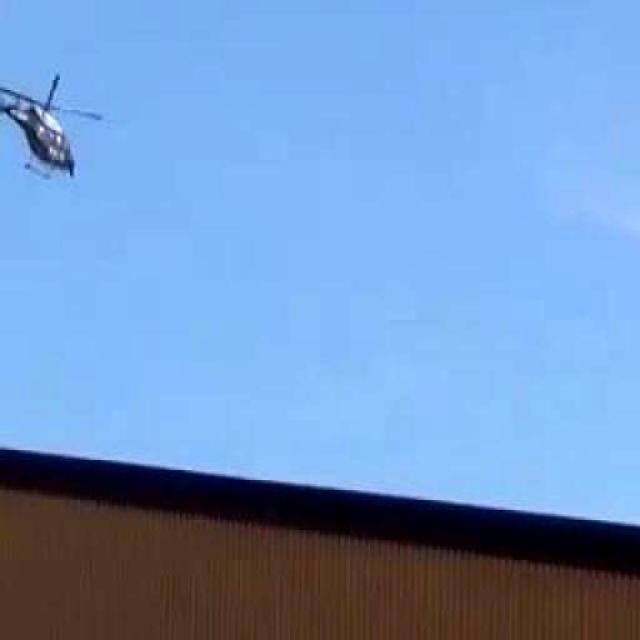drone: (0, 32, 119, 225)
